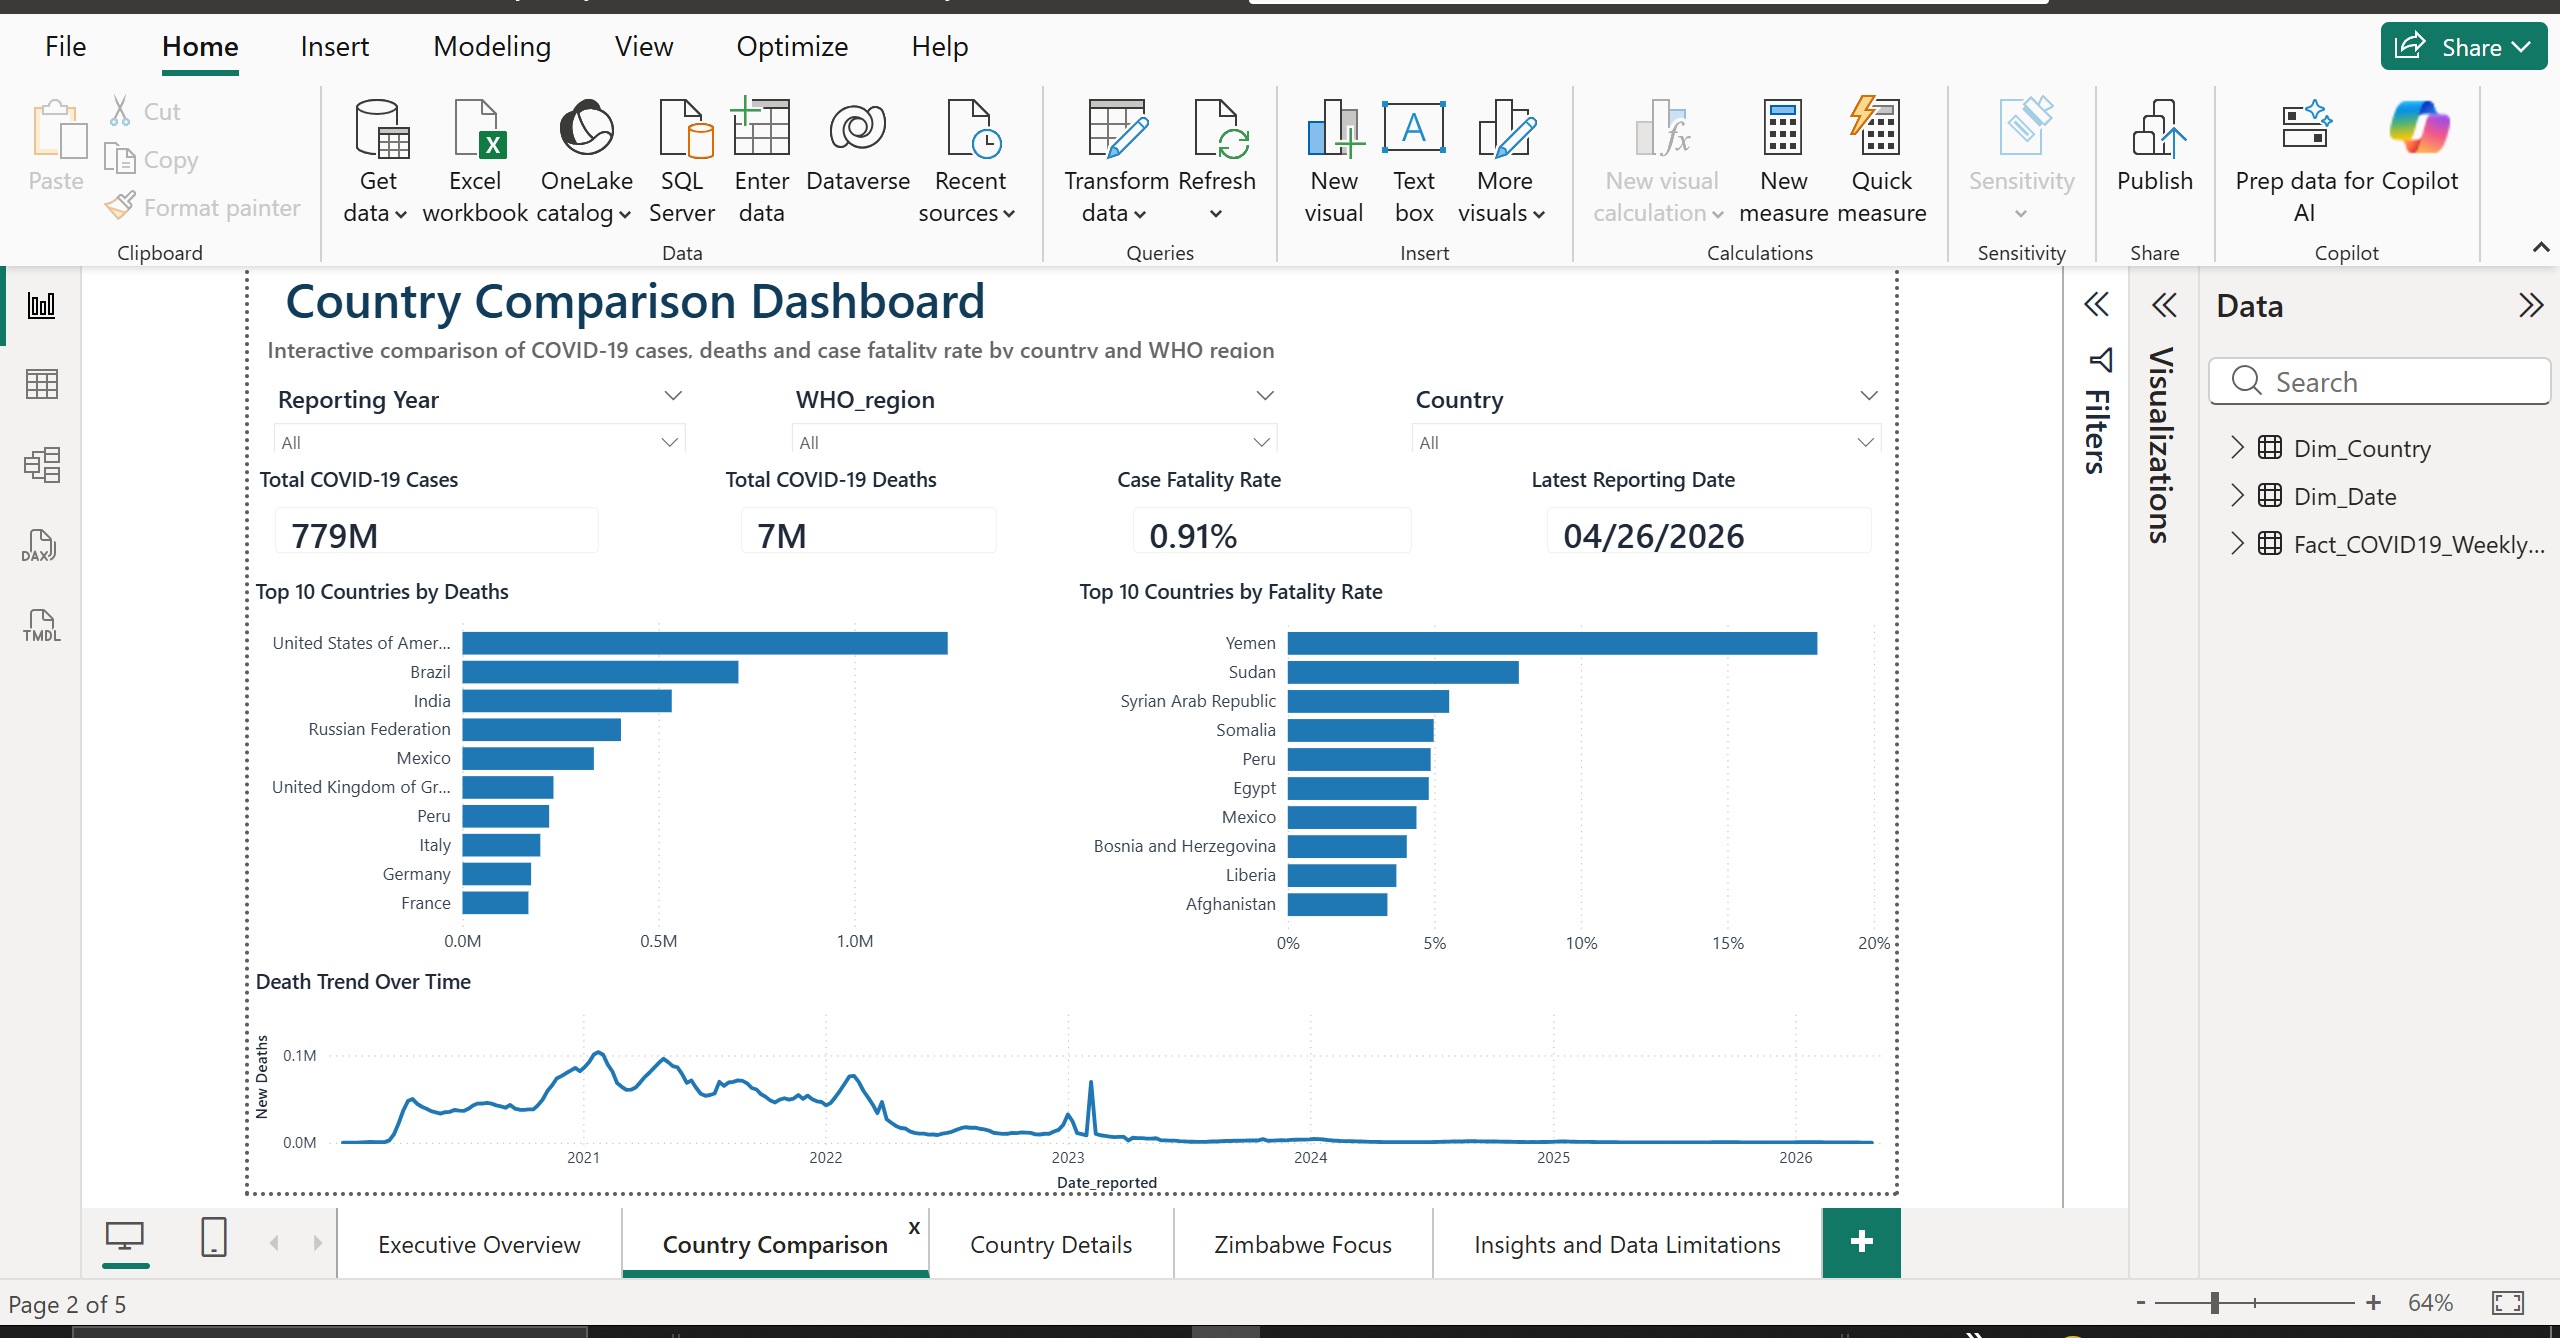

The page's visual inventory and layout, read from the dashboard file:
{"tool":"powerbi","page":{"name":"Country Comparison","canvas":[1280,720],"ordinal":1},"visuals":[{"type":"textbox","title":"Country Comparison Dashboard","box":[22.7,0,588.9,53],"z":0},{"type":"clusteredBarChart","title":"Top 10 Countries by Deaths","fields":{"Y":["Fact_COVID19_Weekly_WHO.Total Deaths"],"Category":["Dim_Country.Column2"]},"box":[0,241,612.7,303.2],"z":1000},{"type":"textbox","title":"Interactive comparison of  COVID-19 cases, deaths and case fatality rate by country and WHO region ","box":[9.5,53,1270.5,18.9],"z":2000},{"type":"slicer","fields":{"Values":["Fact_COVID19_Weekly_WHO.WHO_region"]},"box":[412.1,85.5,398.1,59.1],"z":3000},{"type":"slicer","fields":{"Values":["Fact_COVID19_Weekly_WHO.Country"]},"box":[894.2,85.5,385.7,59.1],"z":4000},{"type":"slicer","fields":{"Values":["Fact_COVID19_Weekly_WHO.Year"]},"box":[9.3,85.5,340.6,59.1],"z":5000},{"type":"cardVisual","title":"Total COVID-19 Cases","fields":{"Data":["Fact_COVID19_Weekly_WHO.Total Cases"]},"box":[3.1,154,286.1,87.1],"z":6000},{"type":"cardVisual","title":"Total COVID-19 Deaths","fields":{"Data":["Fact_COVID19_Weekly_WHO.Total Deaths"]},"box":[365.4,154,233.3,87.1],"z":7000},{"type":"cardVisual","title":"Case Fatality Rate","fields":{"Data":["Fact_COVID19_Weekly_WHO.Case Fatality Rate"]},"box":[670.2,154,251.9,87.1],"z":8000},{"type":"cardVisual","title":"Latest Reporting Date","fields":{"Data":["Fact_COVID19_Weekly_WHO.Latest Reporting Date"]},"box":[992.1,154,287.7,87.1],"z":9000},{"type":"clusteredBarChart","title":"Top 10 Countries by  Fatality Rate ","fields":{"Y":["Fact_COVID19_Weekly_WHO.Case Fatality Rate"],"Category":["Fact_COVID19_Weekly_WHO.Country"]},"box":[640.7,241,640.7,304.8],"z":10000},{"type":"lineChart","title":"Death Trend Over Time","fields":{"Y":["Sum(Fact_COVID19_Weekly_WHO.New_deaths)"],"Category":["Dim_Date.Date_reported"]},"box":[0,544.3,1279.8,180.4],"z":11000}]}

Visuals, with their boxes on the page's 1280x720 design canvas (x1, y1, x2, y2). These are canvas units, not pixel positions in the 2560x1338 screenshot, which may show the page scaled, cropped or inside an application window:
"Country Comparison Dashboard" textbox: x1=23, y1=0, x2=612, y2=53
"Top 10 Countries by Deaths" clusteredBarChart: x1=0, y1=241, x2=613, y2=544
"Interactive comparison of  COVID-19 cases, deaths and case fatality rate by country and WHO region " textbox: x1=10, y1=53, x2=1280, y2=72
slicer - Fact_COVID19_Weekly_WHO.WHO_region: x1=412, y1=86, x2=810, y2=145
slicer - Fact_COVID19_Weekly_WHO.Country: x1=894, y1=86, x2=1280, y2=145
slicer - Fact_COVID19_Weekly_WHO.Year: x1=9, y1=86, x2=350, y2=145
"Total COVID-19 Cases" cardVisual: x1=3, y1=154, x2=289, y2=241
"Total COVID-19 Deaths" cardVisual: x1=365, y1=154, x2=599, y2=241
"Case Fatality Rate" cardVisual: x1=670, y1=154, x2=922, y2=241
"Latest Reporting Date" cardVisual: x1=992, y1=154, x2=1280, y2=241
"Top 10 Countries by  Fatality Rate " clusteredBarChart: x1=641, y1=241, x2=1281, y2=546
"Death Trend Over Time" lineChart: x1=0, y1=544, x2=1280, y2=725
